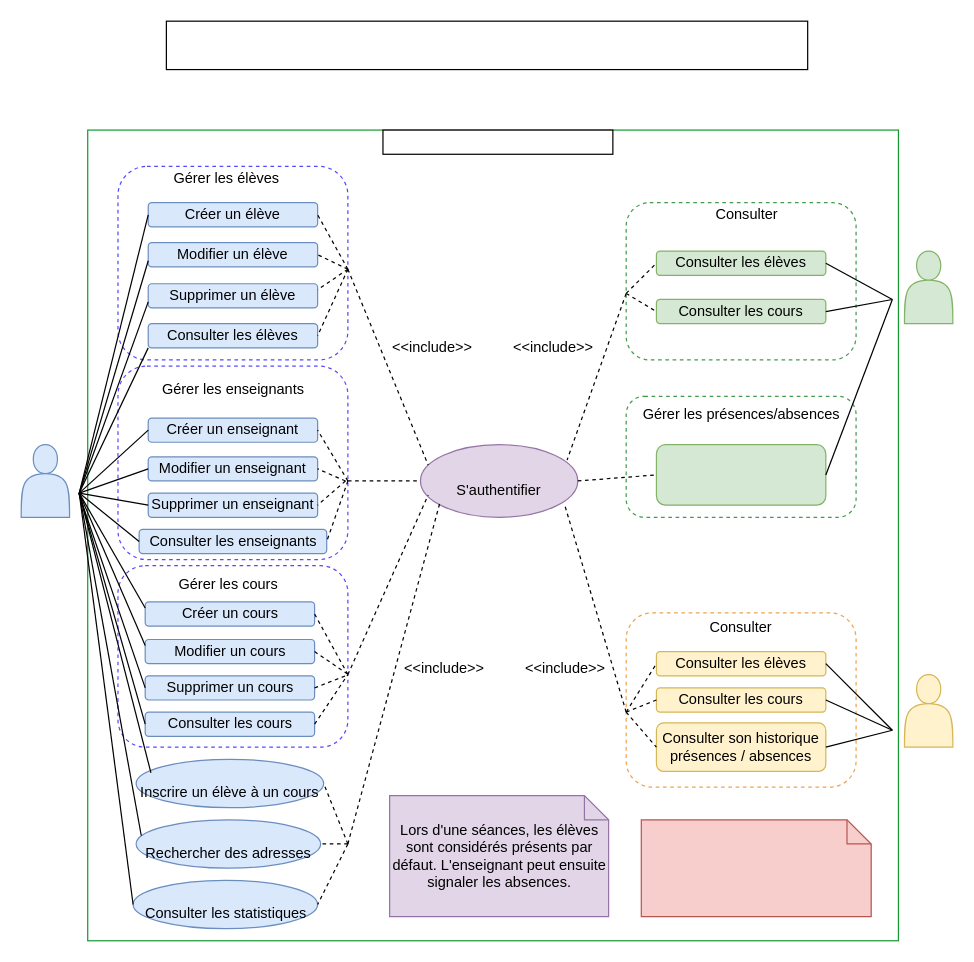
Some shapes in this 974 by 962 pixel diagram are drawn without their labels. The shapes that lost their labels are listed below. From the top down, each one's box as (x1, y1, x2, y2) in pixels, then its label:
(165, 20, 808, 70): Diagramme des cas d'utilisations
(382, 129, 613, 154): School Application
(903, 250, 953, 324): TEA
(20, 443, 70, 517): DIR
(655, 443, 826, 505): Gérer les présences / absences (des élèves de ses cours)
(903, 673, 953, 747): STU
(640, 819, 871, 917): Tous les acteurs sont des acteurs primaires
